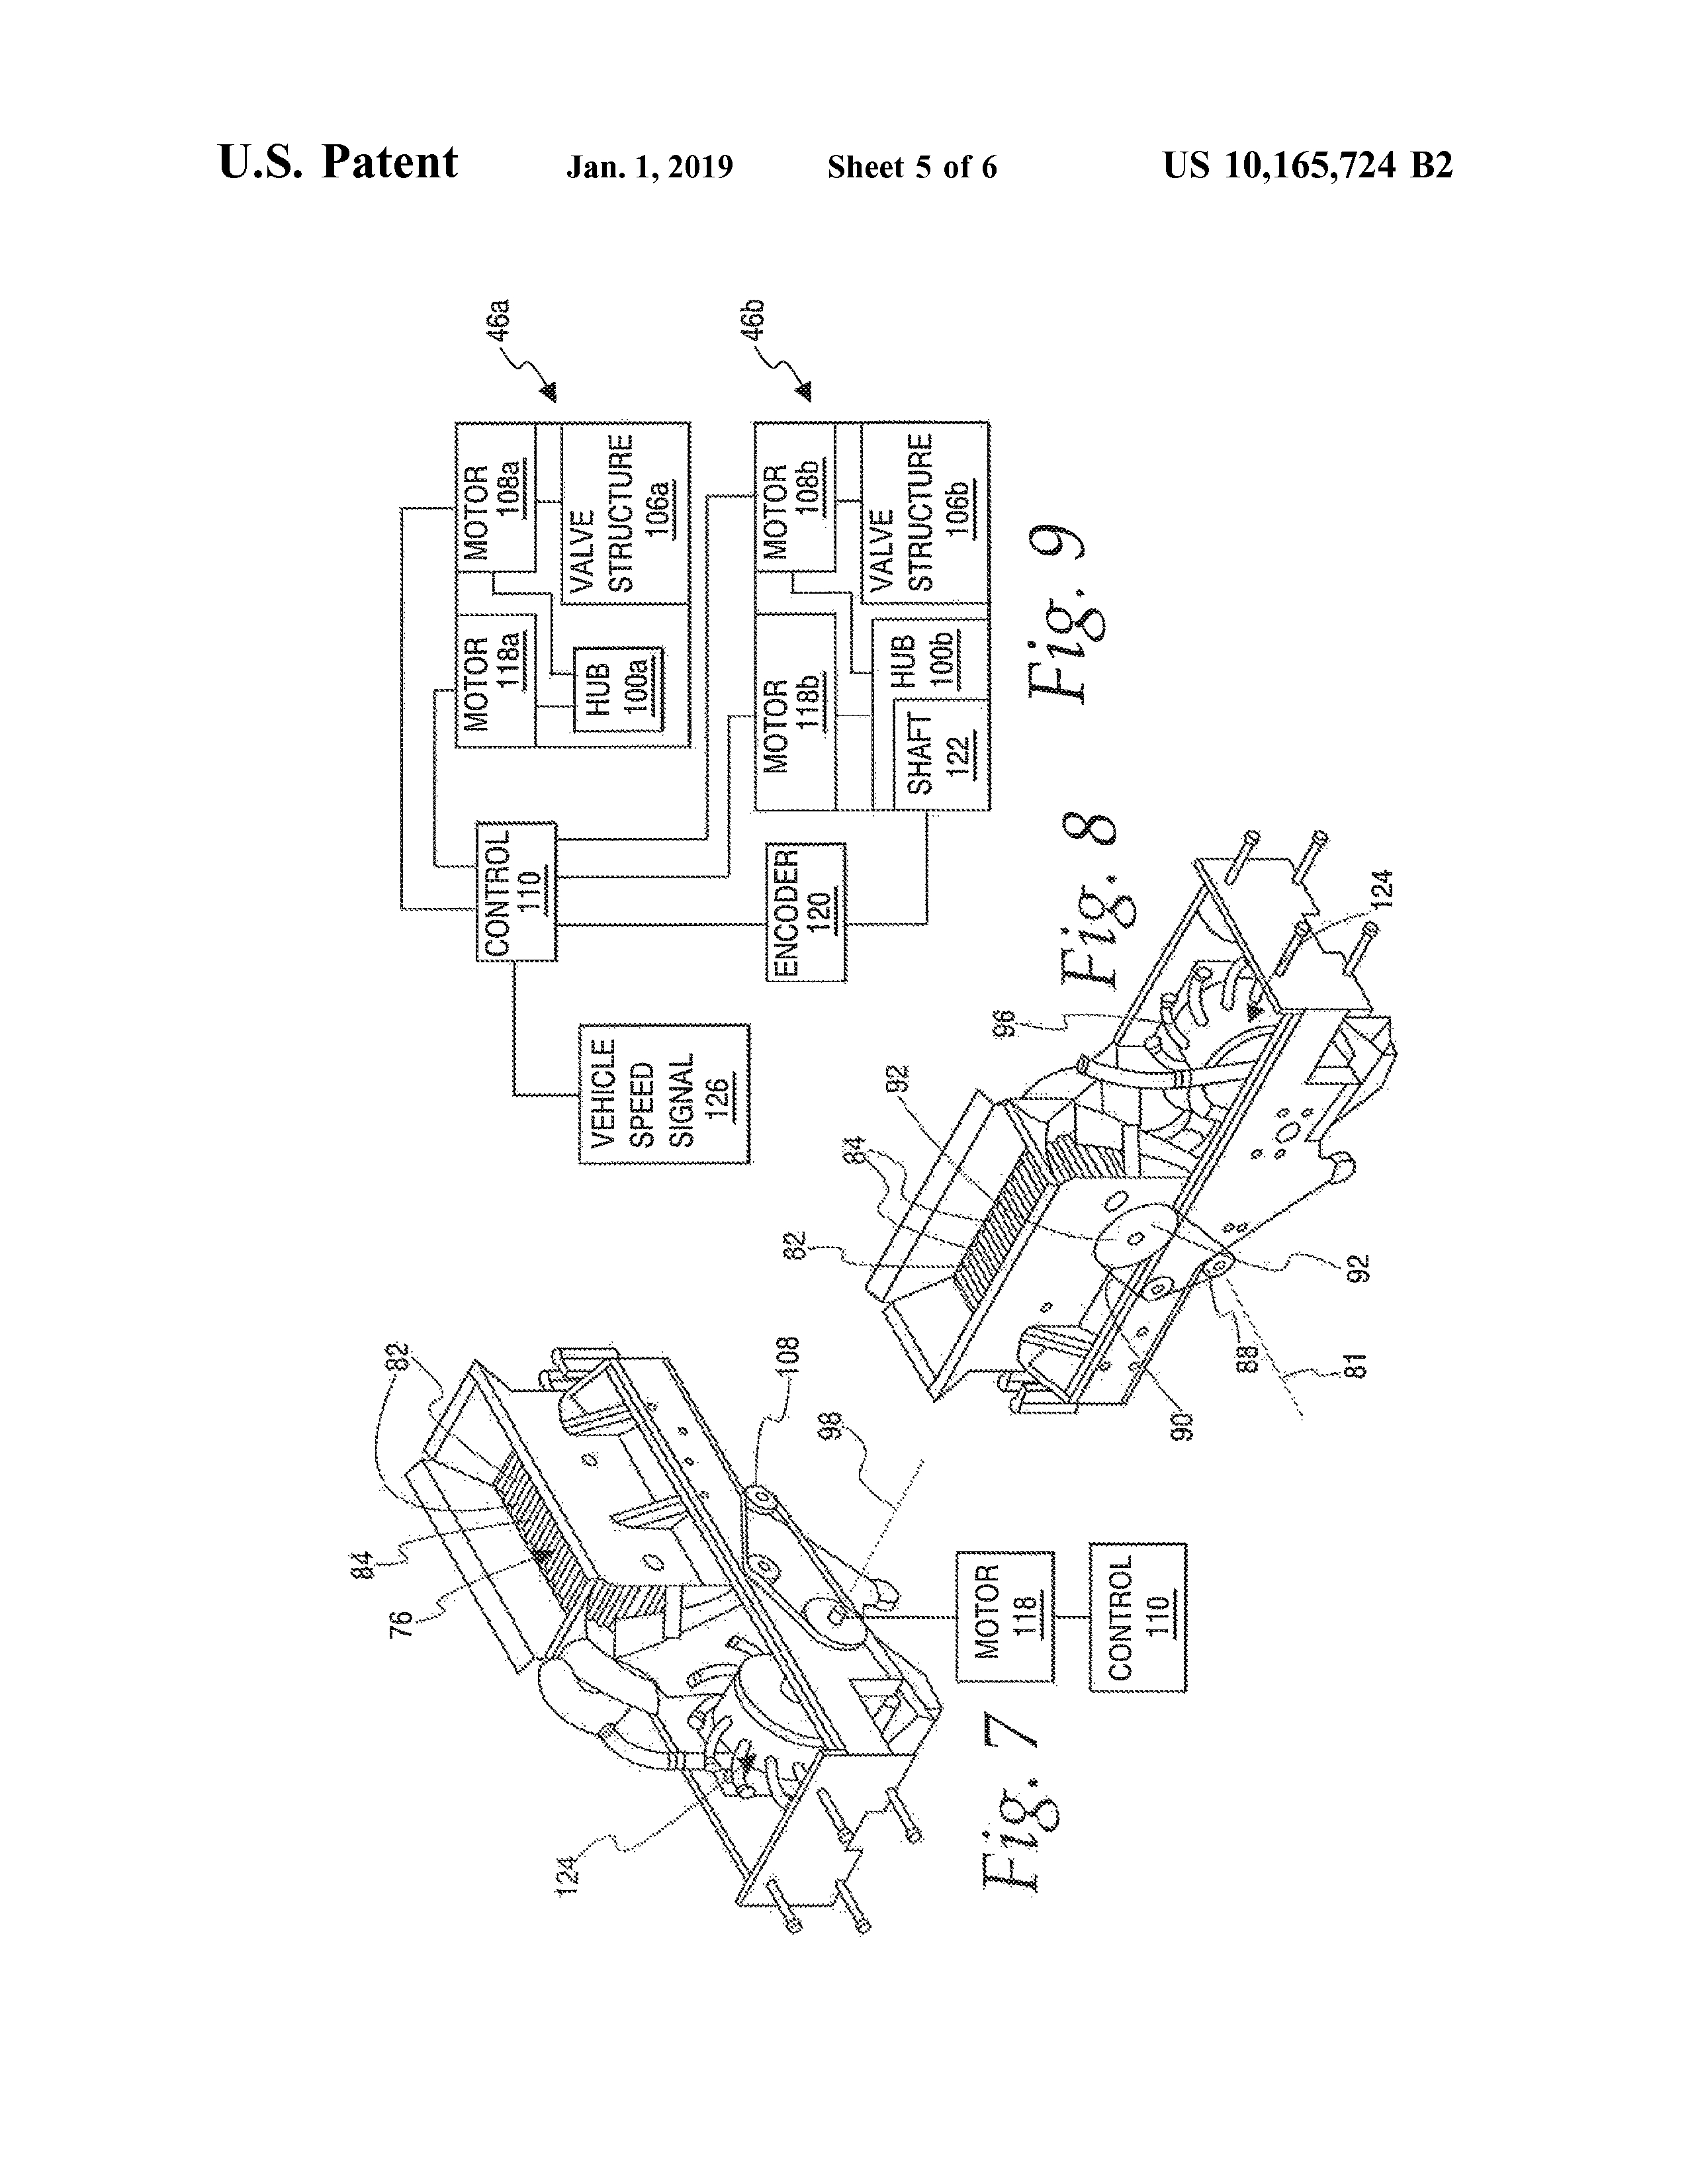patent image: (379, 276, 1130, 1179), (339, 1335, 1202, 1951), (768, 799, 1415, 1450)
